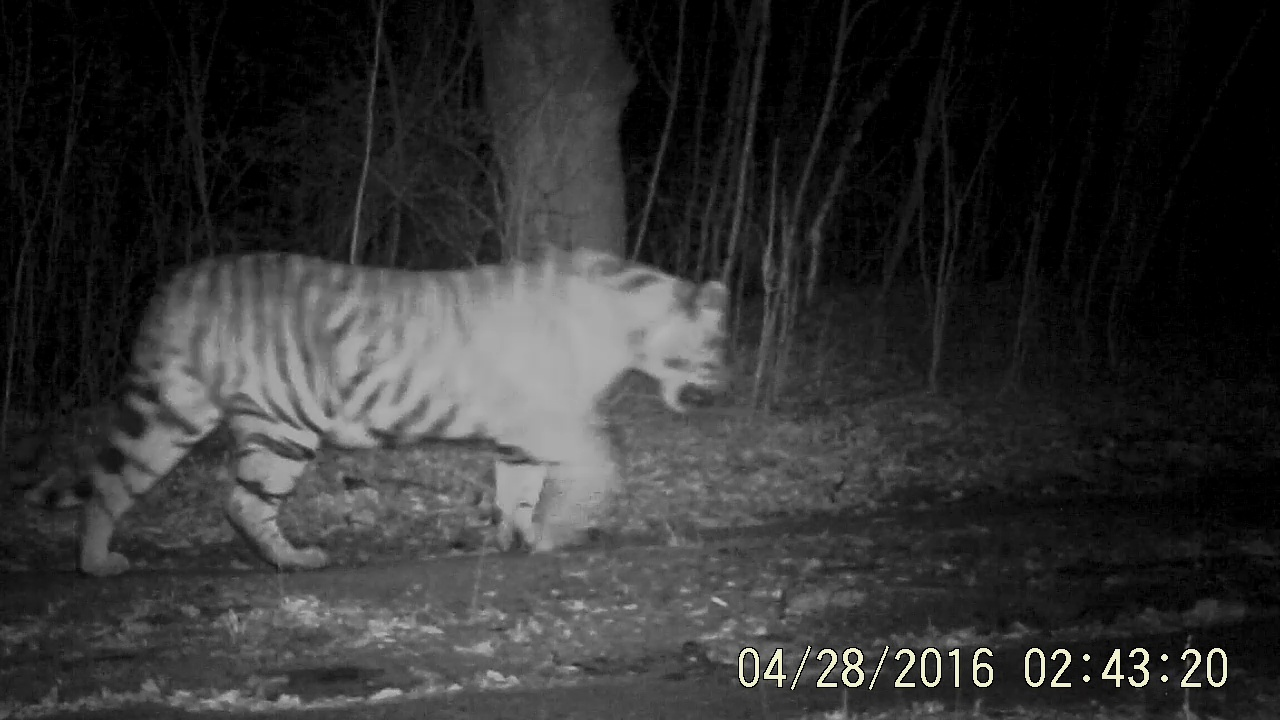Tiger: (25, 93, 755, 635)
